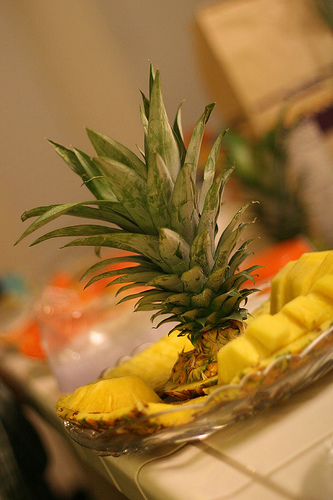pineapple: (10, 67, 331, 458)
